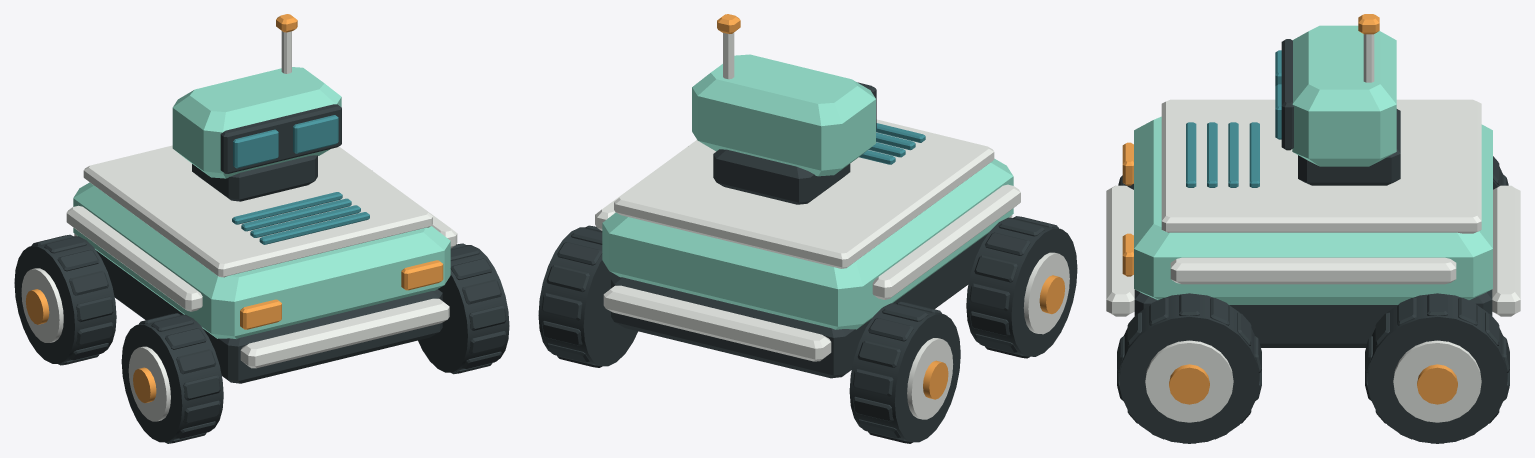
File: rover-motion.glb
3 views of the same model, side by side, from view 1: azimuth 30°, elevation 25°; view 2: azimuth 150°, elevation 25°; view 3: azimuth 270°, elevation 25° (orthographic). The views are drawn at different scales.
Visible parts, largest first — view 1: Ivory deck, Mint body, Tire (×3), Sensor housing, Tread (×12), Lower chassis, Front bumper, Side rail (×2), Rim (×2), Cab base, Sensor face, Marker light (×2) (+7 smaller); view 2: Ivory deck, Mint body, Tire (×3), Sensor housing, Tread (×12), Lower chassis, Rear bumper, Side rail, Rim (×2), Cab base, Hub (×2), Antenna; view 3: Ivory deck, Mint body, Tire (×2), Sensor housing, Rim (×2), Side rail, Lower chassis, Rear bumper, Front bumper, Tread (×6), Hub (×2), Cab base (+8 smaller).
Part boxes in pixels (<box>): Ivory deck: <box>83,145,432,277</box>; Mint body: <box>73,182,450,338</box>; Tire (×3): <box>14,236,509,442</box>; Sensor housing: <box>172,67,341,178</box>; Tread (×12): <box>57,249,506,423</box>; Lower chassis: <box>96,250,442,383</box>; Front bumper: <box>240,298,449,368</box>; Side rail (×2): <box>66,146,457,311</box>; Rim (×2): <box>21,268,170,421</box>; Cab base: <box>192,155,317,201</box>; Sensor face: <box>220,104,341,173</box>; Marker light (×2): <box>240,260,443,329</box>; Ivory deck: <box>614,119,994,268</box>; Mint body: <box>602,158,1013,329</box>; Tire (×3): <box>538,217,1077,442</box>; Sensor housing: <box>692,54,875,176</box>; Tread (×12): <box>541,232,1030,421</box>; Lower chassis: <box>611,233,988,378</box>; Rear bumper: <box>603,285,831,361</box>; Side rail: <box>872,184,1020,299</box>; Rim (×2): <box>907,252,1069,419</box>; Cab base: <box>713,149,850,204</box>; Hub (×2): <box>923,275,1065,399</box>; Antenna: <box>723,32,734,79</box>; Ivory deck: <box>1161,99,1481,233</box>; Mint body: <box>1134,116,1492,304</box>; Tire (×2): <box>1119,293,1507,443</box>; Sensor housing: <box>1292,25,1396,166</box>; Rim (×2): <box>1145,340,1481,422</box>; Side rail: <box>1170,257,1456,284</box>; Lower chassis: <box>1134,289,1492,347</box>; Rear bumper: <box>1492,185,1520,316</box>; Front bumper: <box>1106,185,1134,316</box>; Tread (×6): <box>1149,294,1477,325</box>; Hub (×2): <box>1169,364,1457,404</box>; Cab base: <box>1298,109,1400,185</box>.
Size of the model in its own units: 2.85 by 2.47 by 2.54.
